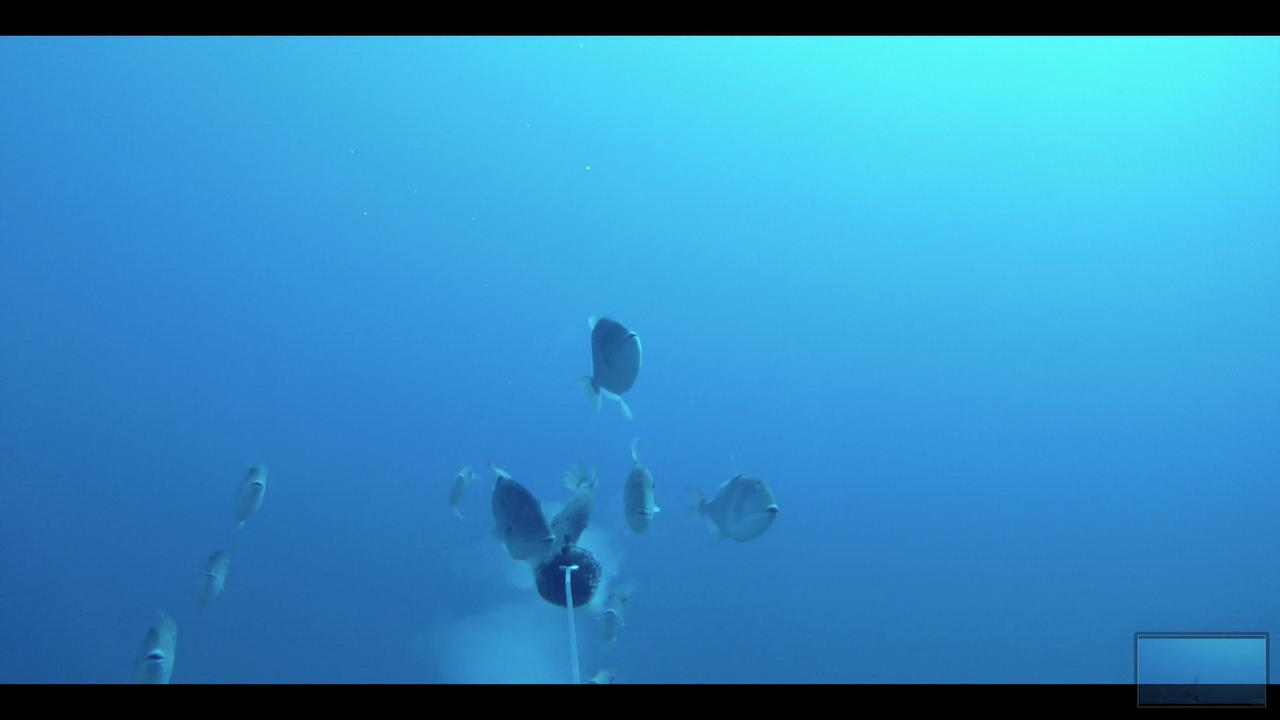balistes: (469, 457, 558, 562), (691, 463, 784, 551), (575, 310, 650, 413), (606, 426, 664, 538), (136, 602, 187, 681), (226, 455, 272, 529), (189, 543, 236, 606)
